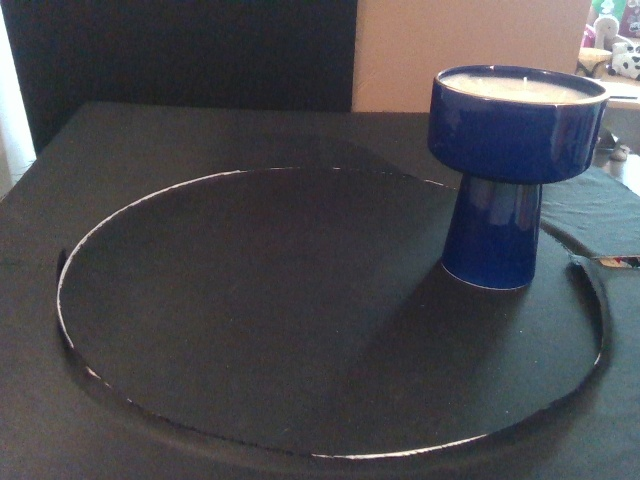candle: (425, 62, 612, 292)
